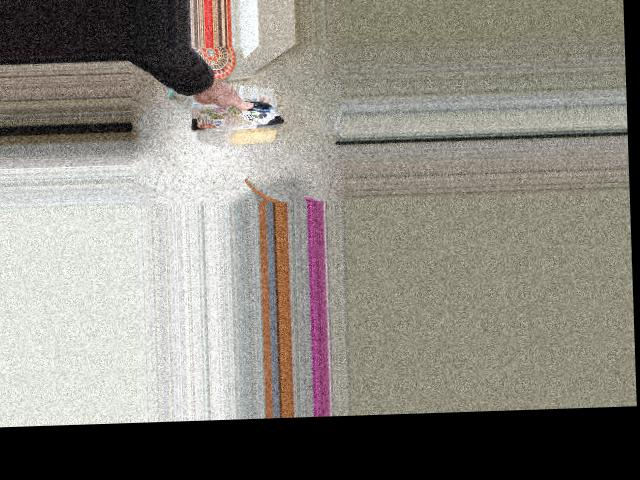cheese: (178, 77, 288, 172)
